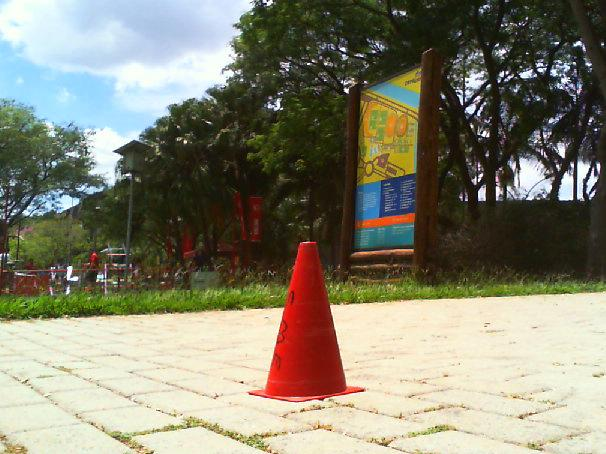0 cone: (246, 242, 364, 402)
